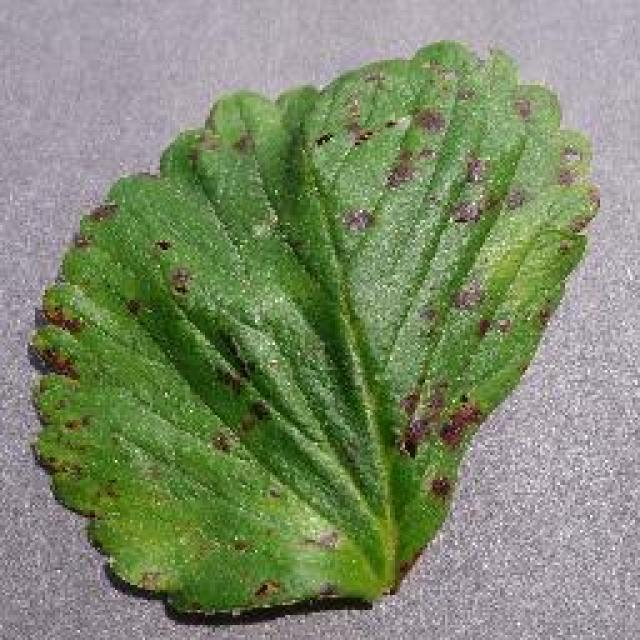Strawberry leaf scorch: (75, 81, 512, 482)
